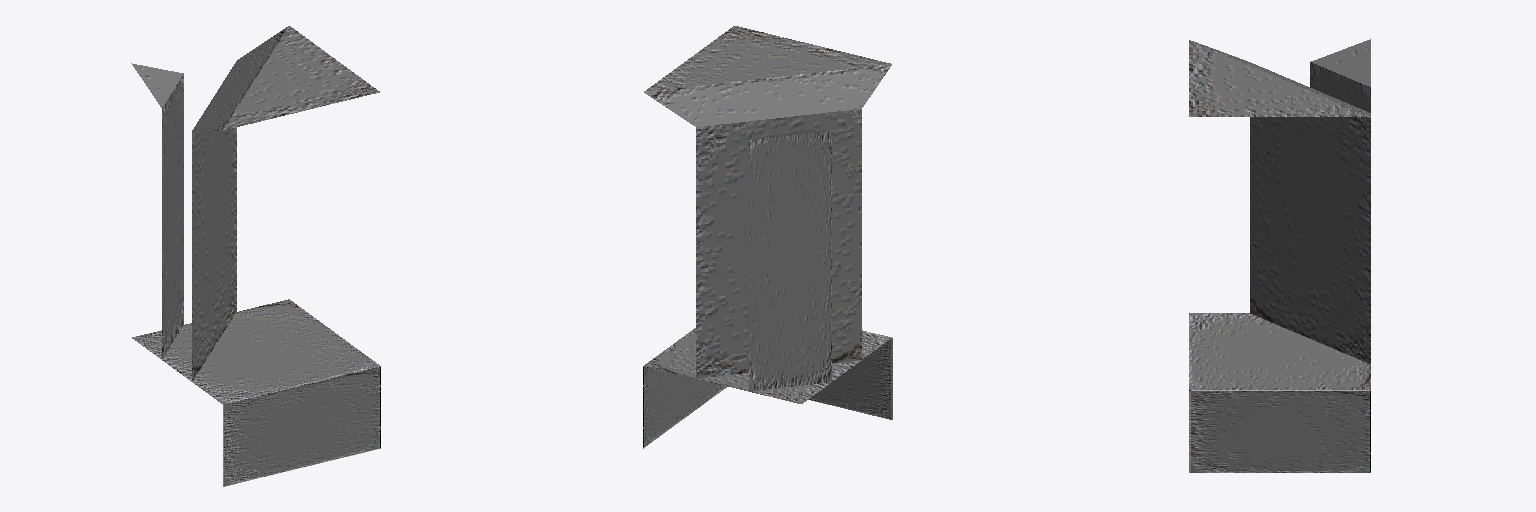
3 views of the same model, side by side, from view 1: azimuth 30°, elevation 25°; view 2: azimuth 150°, elevation 25°; view 3: azimuth 270°, elevation 25° (orthographic).
Parts seen in each view (by area): view 1: WallCorner WallEnd_0001:polySurface18, WallCorner WallCross_0000:polySurface13, WallCorner polySurface2, WallCorner polySurface3, WallCorner WallCross_0000:polySurface20, polySurface1 WallCorner, WallCorner WallCross_0000:polySurface21; view 2: WallCorner polySurface2, WallCorner WallCross_0000:polySurface20, polySurface1 WallCorner, WallCorner polySurface3, WallCorner WallEnd_0001:polySurface17, WallCorner WallEnd_0001:polySurface18, WallCorner WallCross_0000:polySurface13; view 3: WallCorner polySurface2, WallCorner WallEnd_0001:polySurface17, WallCorner WallCross_0000:polySurface13, WallCorner polySurface3, WallCorner WallCross_0000:polySurface20, WallCorner WallCross_0000:polySurface21.
Part boxes in pixels (left/top/right/bottom): WallCorner WallEnd_0001:polySurface18: left=223, top=366, right=380, bottom=486; WallCorner WallCross_0000:polySurface13: left=132, top=299, right=379, bottom=403; WallCorner polySurface2: left=192, top=127, right=236, bottom=381; WallCorner polySurface3: left=223, top=26, right=379, bottom=130; WallCorner WallCross_0000:polySurface20: left=162, top=74, right=183, bottom=358; polySurface1 WallCorner: left=192, top=26, right=288, bottom=130; WallCorner WallCross_0000:polySurface21: left=131, top=63, right=183, bottom=107; WallCorner polySurface2: left=696, top=109, right=861, bottom=378; WallCorner WallCross_0000:polySurface20: left=749, top=131, right=831, bottom=391; polySurface1 WallCorner: left=644, top=64, right=891, bottom=126; WallCorner polySurface3: left=644, top=26, right=890, bottom=91; WallCorner WallEnd_0001:polySurface17: left=643, top=366, right=727, bottom=448; WallCorner WallEnd_0001:polySurface18: left=808, top=338, right=892, bottom=419; WallCorner WallCross_0000:polySurface13: left=644, top=328, right=891, bottom=403; WallCorner polySurface2: left=1250, top=117, right=1370, bottom=363; WallCorner WallEnd_0001:polySurface17: left=1189, top=390, right=1370, bottom=472; WallCorner WallCross_0000:polySurface13: left=1189, top=313, right=1370, bottom=389; WallCorner polySurface3: left=1189, top=40, right=1370, bottom=116; WallCorner WallCross_0000:polySurface20: left=1310, top=62, right=1370, bottom=112; WallCorner WallCross_0000:polySurface21: left=1311, top=39, right=1370, bottom=86.
Size of the model in its own units: 6 by 12.95 by 6.
Materials: 1 (1 with a texture image).